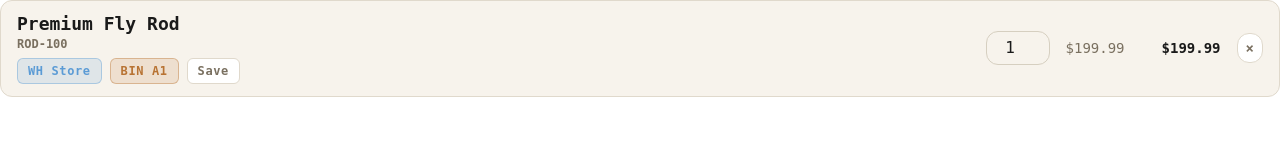
Test: <Cart> › Save button on a cart line bookmarks the SKU and toggles to Saved
Click the button with aria-label "bookmark rod-100" at (213, 70), box [187,58,240,84]
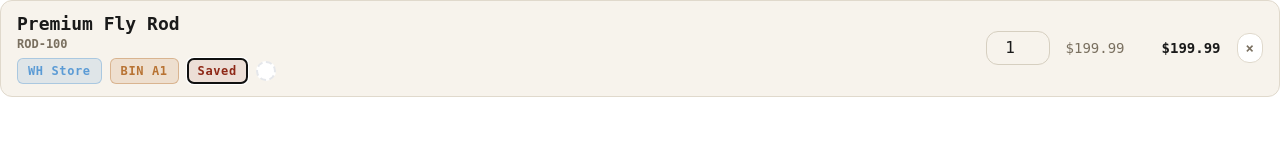
Expected: the text "ROD-100" is shown, [17,36,68,50]
Expected: the button with aria-label "remove rod-100 from bookmarks" is shown, [187,58,248,84]
